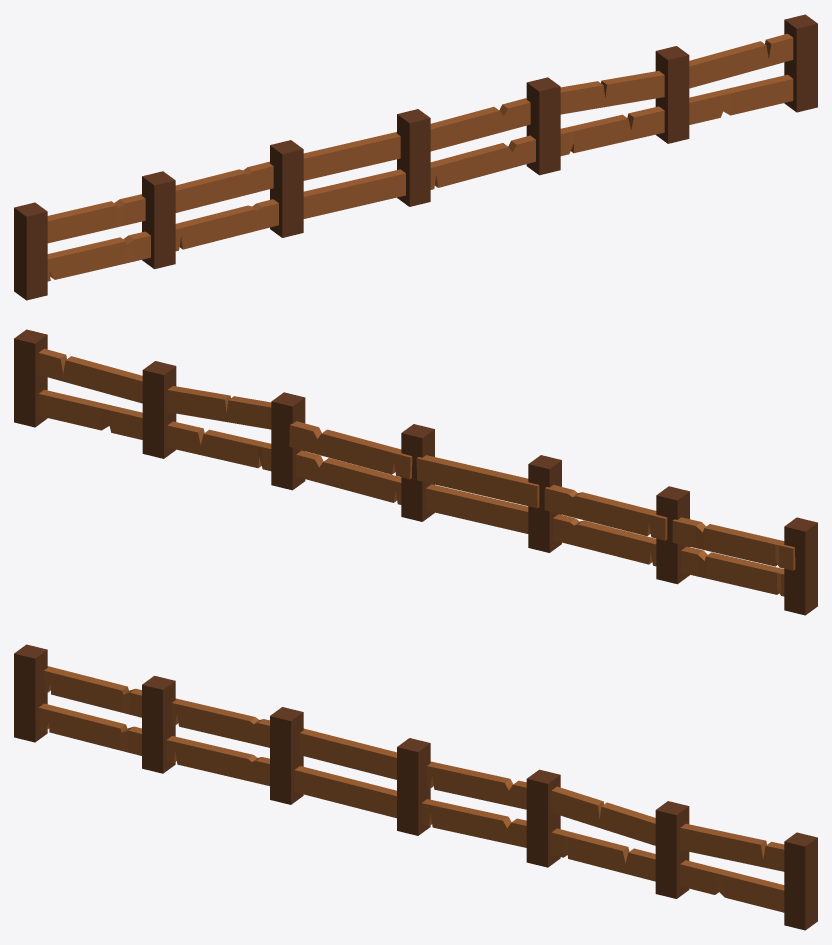
File: 6linefences.fbx
The picture shows the model from 3 angles, top to bottom: view 1: azimuth 30°, elevation 25°; view 2: azimuth 150°, elevation 25°; view 3: azimuth 330°, elevation 25°; orthographic projection.
Parts seen in each view (by area): view 1: Cube.017, Cube.016; view 2: Cube.017, Cube.016; view 3: Cube.017, Cube.016.
Part boxes in pixels (x1=…): Cube.017: x1=47, y1=33, x2=793, y2=281; Cube.016: x1=14, y1=14, x2=817, y2=300; Cube.017: x1=38, y1=348, x2=795, y2=596; Cube.016: x1=14, y1=329, x2=817, y2=615; Cube.017: x1=38, y1=666, x2=784, y2=912; Cube.016: x1=14, y1=644, x2=817, y2=930.
Size of the model in its own units: 1756 by 178 by 66.3.
